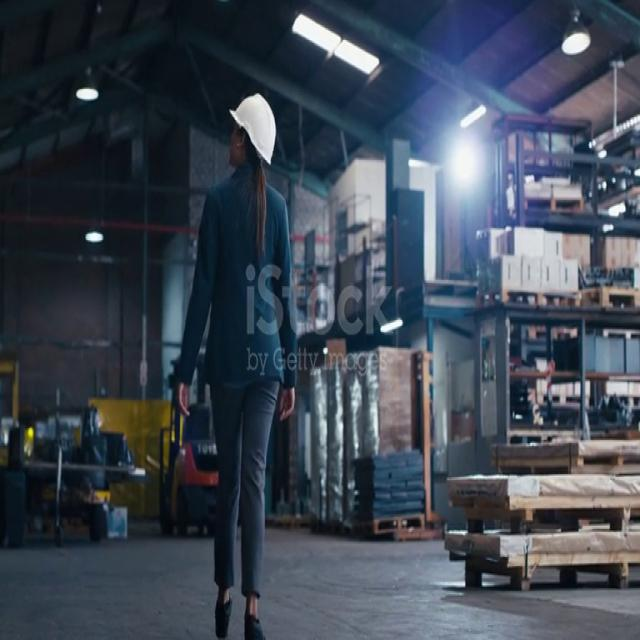capacete: (221, 81, 282, 176)
